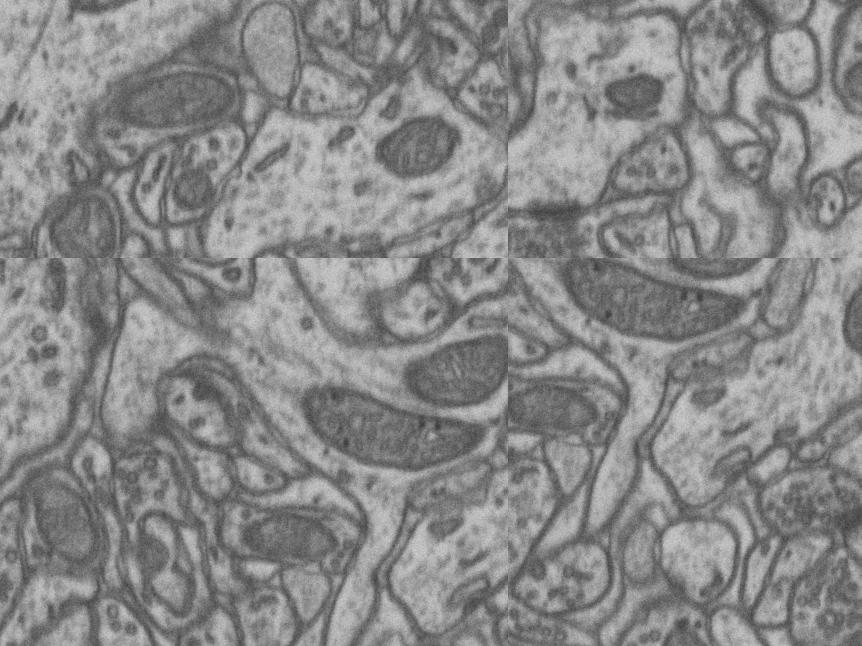mitochondria: (287, 369, 485, 498), (549, 258, 747, 369), (94, 31, 247, 165), (389, 305, 508, 428), (365, 89, 475, 197), (11, 470, 117, 570), (50, 0, 232, 58), (28, 168, 141, 258), (234, 498, 341, 583), (508, 369, 603, 454), (152, 146, 231, 234), (586, 52, 672, 129), (651, 258, 787, 299), (827, 270, 862, 364), (836, 35, 862, 127), (647, 621, 725, 646)
